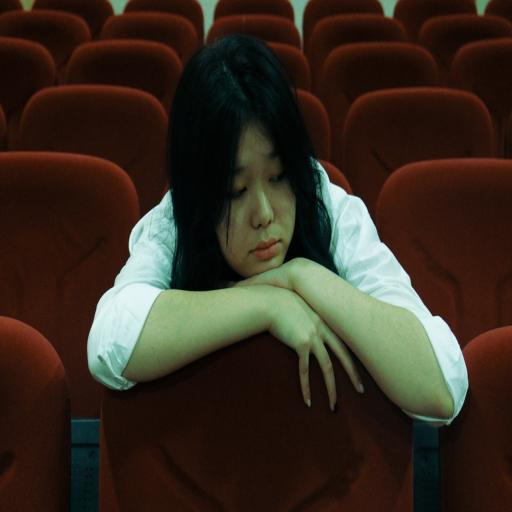face: (217, 124, 295, 278)
